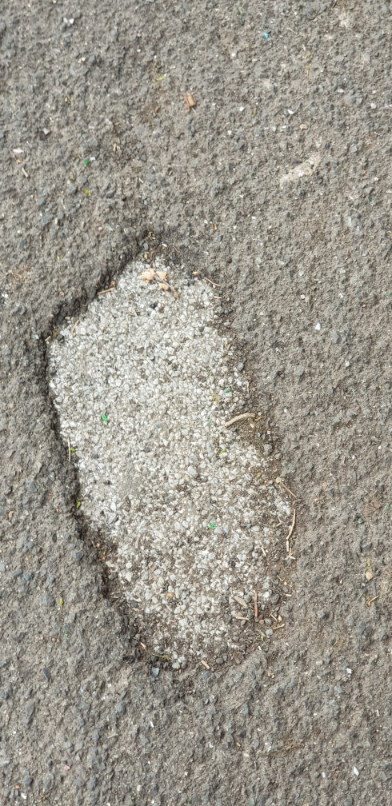pothole: (28, 219, 308, 678)
